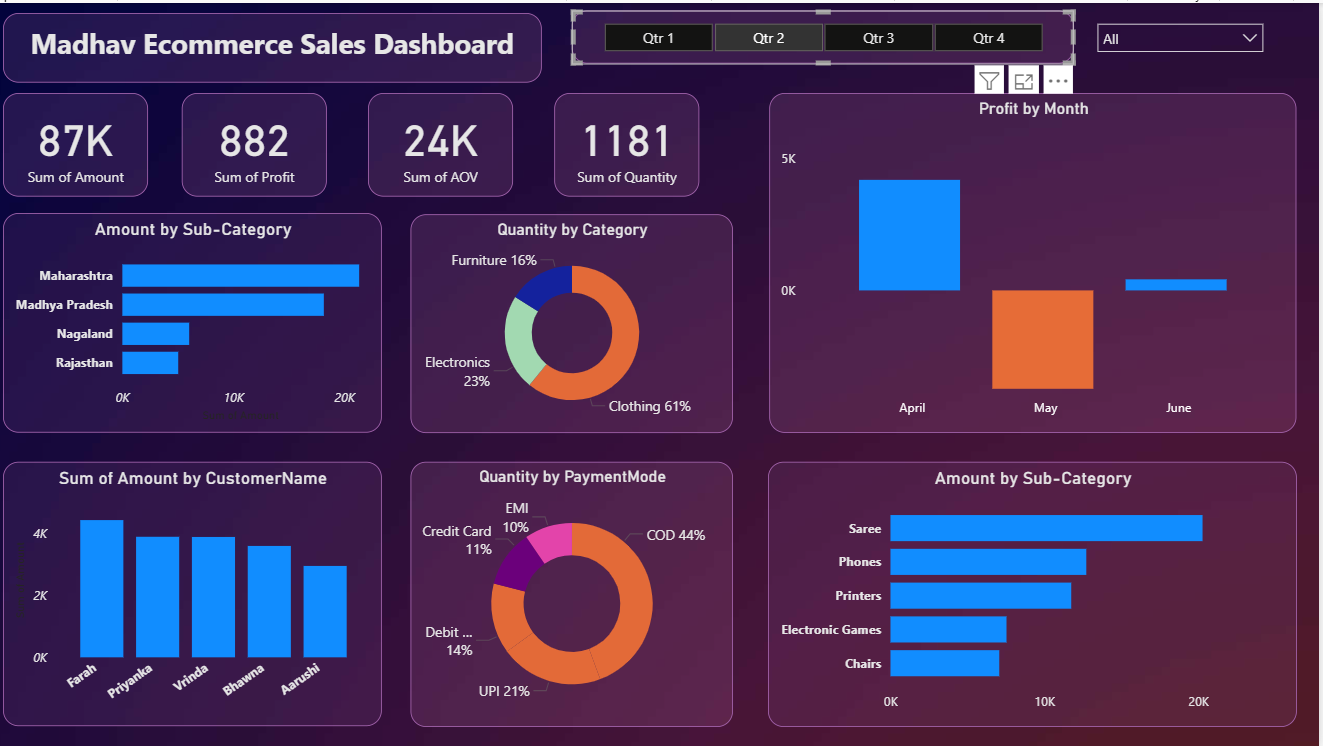

What the dashboard file says about the page in this screenshot:
{"tool":"powerbi","page":{"name":"Page 1","canvas":[1280,720],"ordinal":0},"visuals":[{"type":"textbox","box":[9.7,9.7,520,67.6],"z":0},{"type":"columnChart","title":"Profit by Month","fields":{"Y":["Sum(Details.Profit)"],"Category":["Orders.Order Date.Variation.Date Hierarchy.Month"]},"box":[749.2,86.9,509.1,328.2],"z":1000},{"type":"barChart","title":"Amount by Sub-Category","fields":{"Category":["Details.Sub-Category"],"Y":["Sum(Details.Amount)"]},"box":[748,442.8,510.3,255.8],"z":2000},{"type":"donutChart","title":"Quantity by Category","fields":{"Category":["Details.Category"],"Y":["Sum(Details.Quantity)"]},"box":[403,203.9,311.3,211.1],"z":3000},{"type":"donutChart","title":"Quantity by PaymentMode","fields":{"Category":["Details.PaymentMode"],"Y":["Sum(Details.Quantity)"]},"box":[403,442.8,311.3,255.8],"z":4000},{"type":"card","fields":{"Values":["Sum(Details.Amount)"]},"box":[10,86.7,140,100],"z":5000},{"type":"card","fields":{"Values":["Sum(Details.Quantity)"]},"box":[541.1,86.7,140,100],"z":6000},{"type":"card","fields":{"Values":["Sum(Details.Profit)"]},"box":[182.2,86.7,140,100],"z":7000},{"type":"card","fields":{"Values":["Sum(Details.AOV)"]},"box":[362.2,86.7,140,100],"z":8000},{"type":"barChart","title":"Amount by Sub-Category","fields":{"Category":["Orders.State"],"Y":["Sum(Details.Amount)"]},"box":[10,202.2,365.6,212.2],"z":9000},{"type":"columnChart","fields":{"Category":["Orders.CustomerName"],"Y":["Sum(Details.Amount)"]},"box":[10,443.3,365.6,255.6],"z":10000},{"type":"slicer","fields":{"Values":["Orders.Order Date.Variation.Date Hierarchy.Quarter"]},"box":[558.9,7.8,484.4,51.1],"z":11000},{"type":"slicer","fields":{"Values":["Orders.State"]},"box":[1056,10,180,49],"z":12000}]}

Visuals, with their boxes in screenshot pixels (x1, y1, x2, y2), scaled from the page's 1280x720 canvas onto the 1323x746 screenshot:
textbox: [x1=10, y1=10, x2=547, y2=80]
"Profit by Month" columnChart: [x1=774, y1=90, x2=1301, y2=430]
"Amount by Sub-Category" barChart: [x1=773, y1=459, x2=1301, y2=724]
"Quantity by Category" donutChart: [x1=417, y1=211, x2=738, y2=430]
"Quantity by PaymentMode" donutChart: [x1=417, y1=459, x2=738, y2=724]
card - Sum(Details.Amount): [x1=10, y1=90, x2=155, y2=193]
card - Sum(Details.Quantity): [x1=559, y1=90, x2=704, y2=193]
card - Sum(Details.Profit): [x1=188, y1=90, x2=333, y2=193]
card - Sum(Details.AOV): [x1=374, y1=90, x2=519, y2=193]
"Amount by Sub-Category" barChart: [x1=10, y1=210, x2=388, y2=429]
columnChart - Orders.CustomerName x Sum(Details.Amount): [x1=10, y1=459, x2=388, y2=724]
slicer - Orders.Order Date.Variation.Date Hierarchy.Quarter: [x1=578, y1=8, x2=1078, y2=61]
slicer - Orders.State: [x1=1091, y1=10, x2=1278, y2=61]
